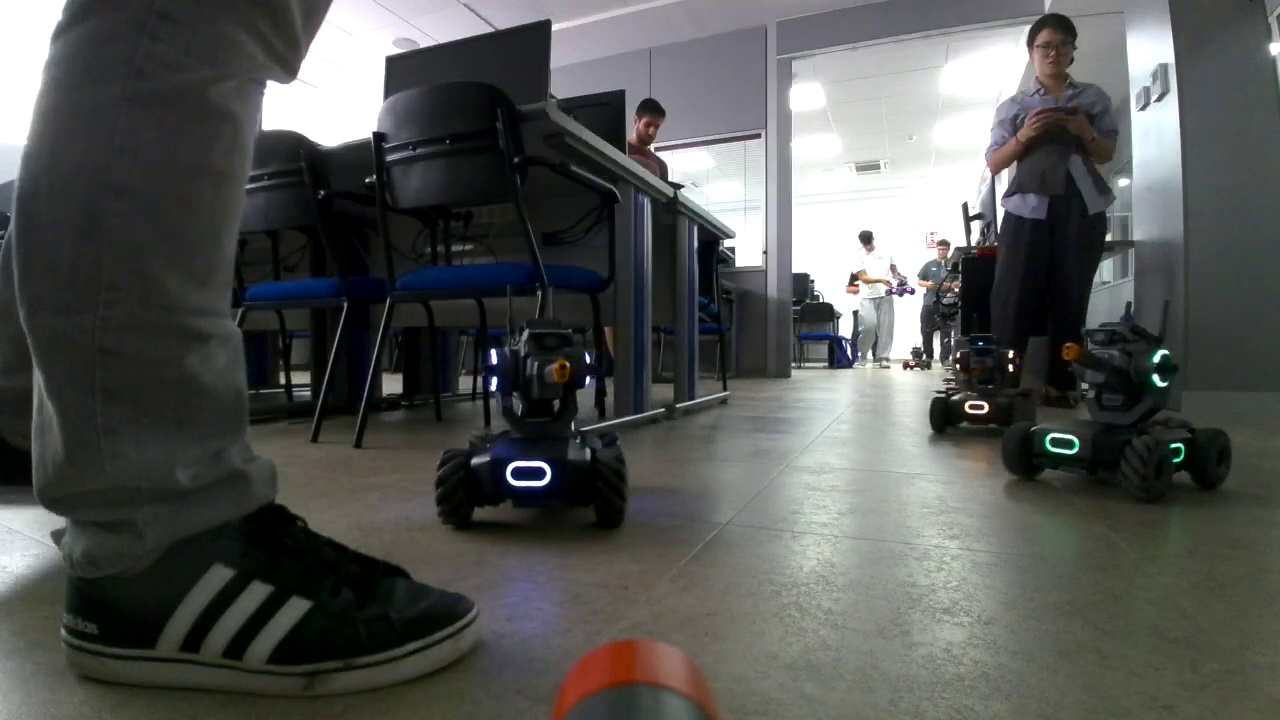robot: (1002, 298, 1232, 505), (435, 282, 624, 530), (924, 322, 1037, 438), (902, 342, 932, 372), (885, 274, 916, 297)
